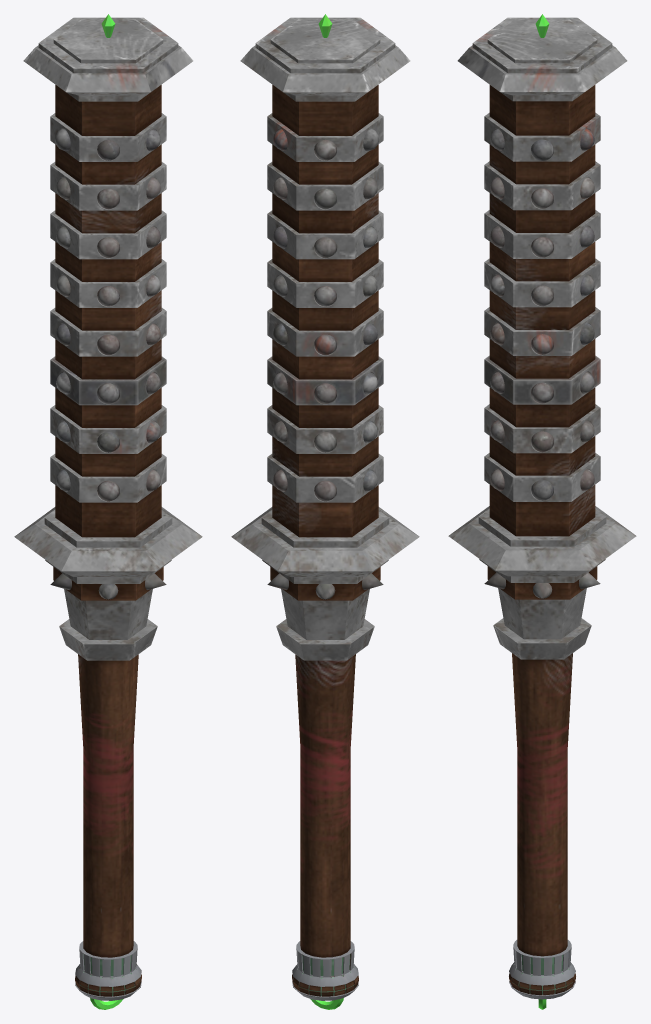
File: kanobo.glb
The picture shows the model from 3 angles, left to right: view 1: azimuth 30°, elevation 25°; view 2: azimuth 150°, elevation 25°; view 3: azimuth 270°, elevation 25°; orthographic projection.
Visible parts, largest first — view 1: Cylinder; view 2: Cylinder; view 3: Cylinder.
Boxes of the visible parts, left/top/right/bottom form: Cylinder: left=14, top=14, right=202, bottom=1009; Cylinder: left=231, top=14, right=419, bottom=1009; Cylinder: left=448, top=14, right=636, bottom=1009.
Bounding box in the file's own units: 331 × 2225 × 383.
Materials: 2 (2 with a texture image).
